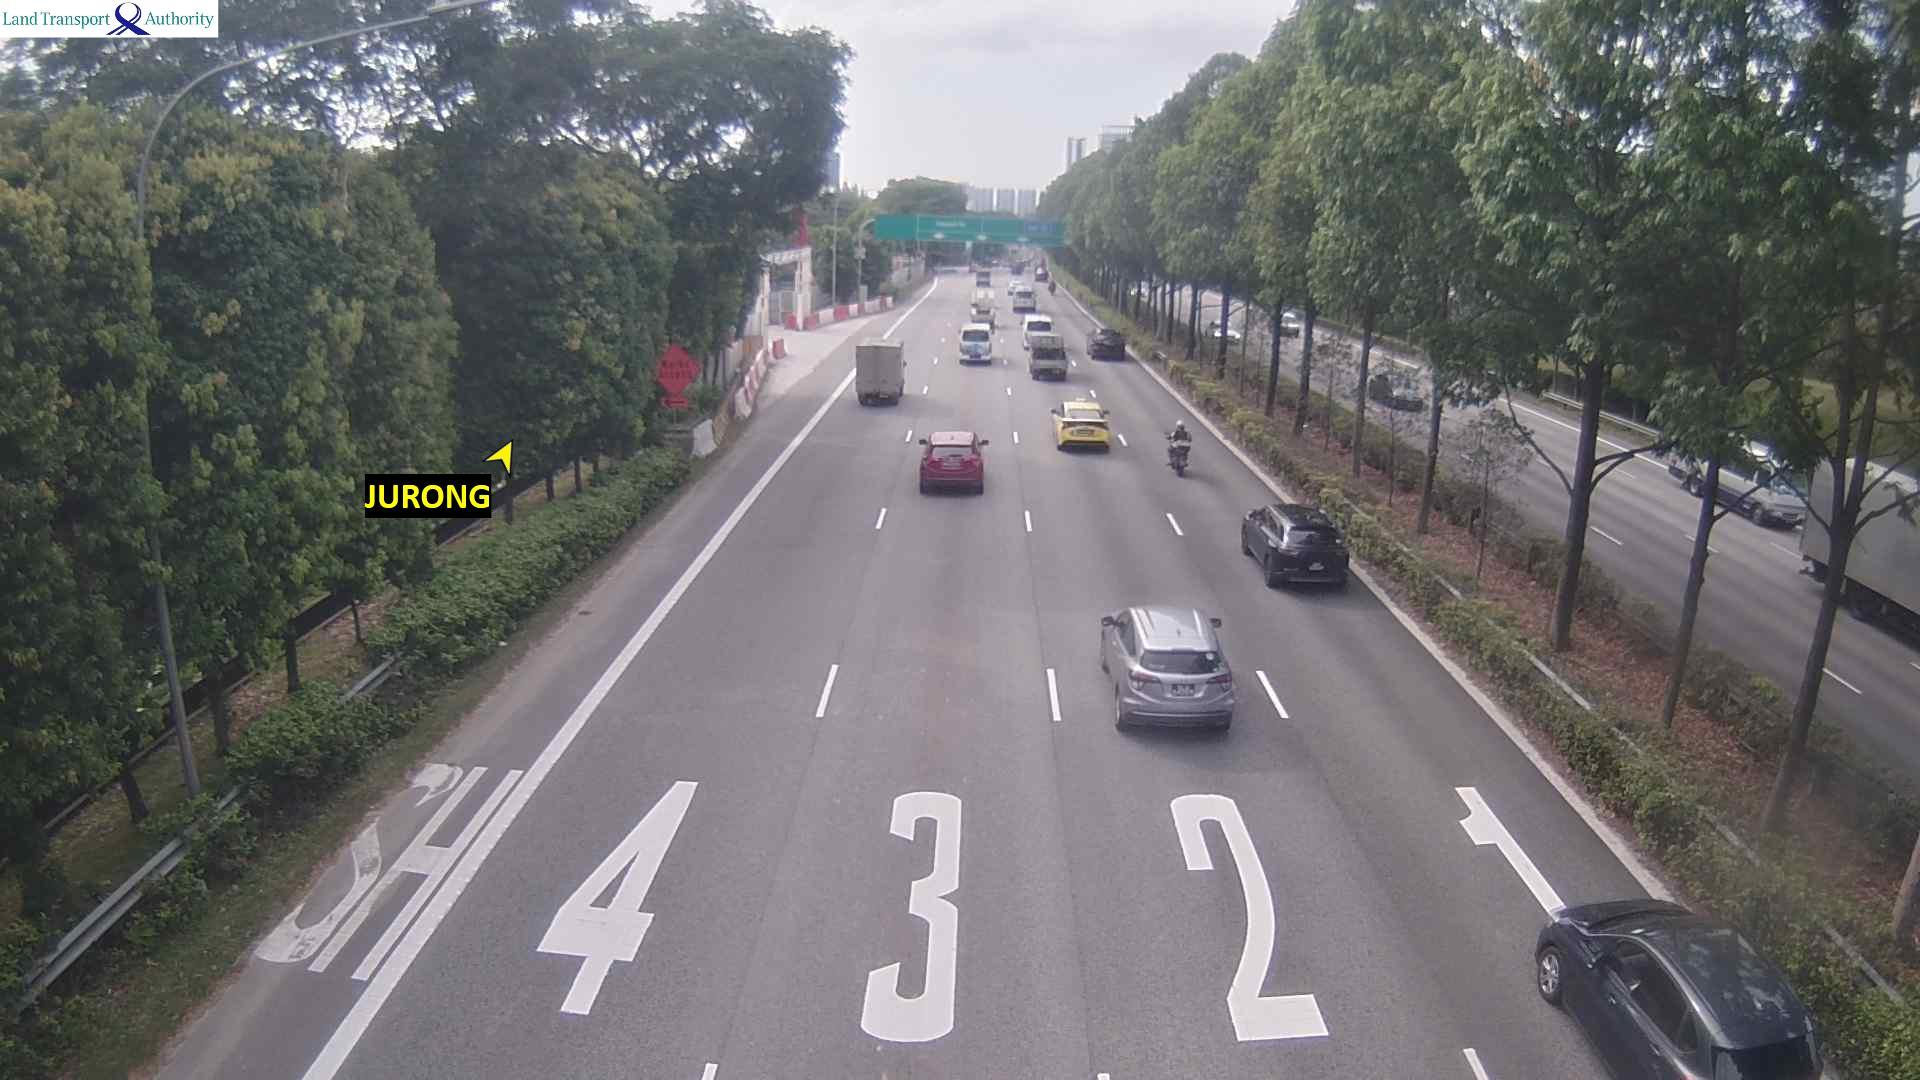incoming: (1744, 448, 1808, 536), (1380, 371, 1430, 413), (1210, 320, 1239, 347)
